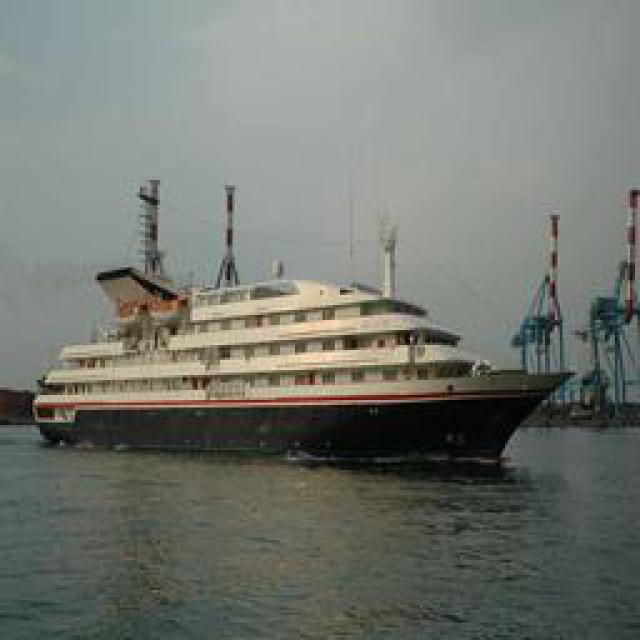Ship: (16, 184, 577, 478)
